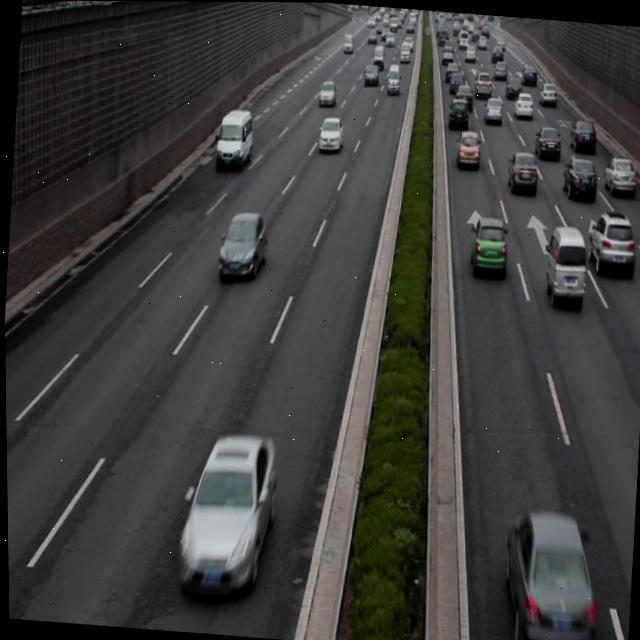car: (173, 429, 276, 594), (496, 503, 598, 640), (215, 209, 267, 280), (583, 210, 634, 276), (466, 214, 508, 277), (559, 156, 595, 202), (504, 150, 539, 196), (600, 154, 635, 197), (566, 114, 595, 151), (453, 128, 479, 168), (316, 115, 343, 151), (532, 127, 561, 159), (447, 97, 469, 134)
truck: (539, 224, 587, 306), (214, 105, 252, 163)
